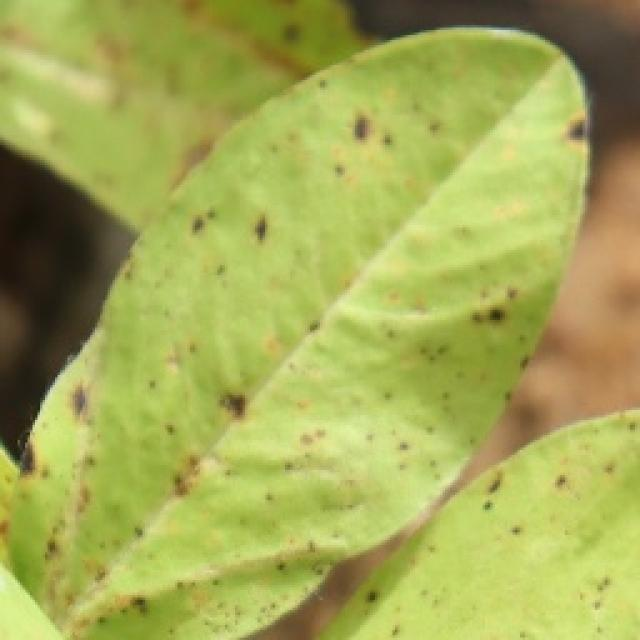Yellowish: (6, 23, 640, 627)
